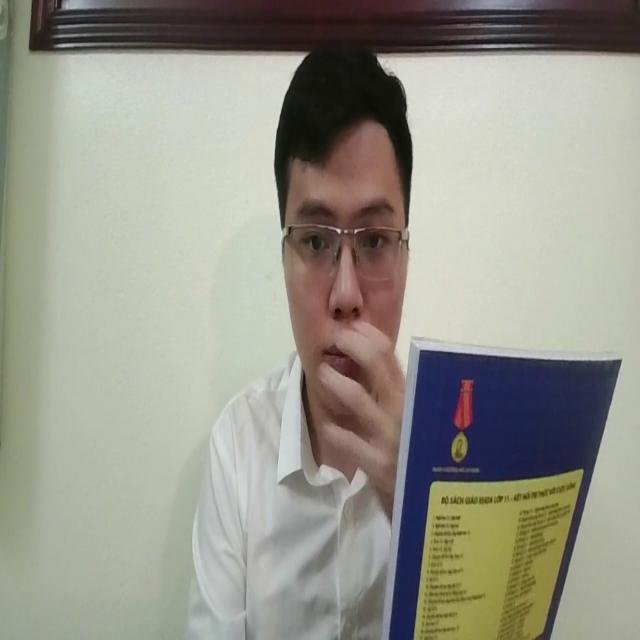book: (388, 322, 626, 640)
student: (176, 39, 427, 640)
